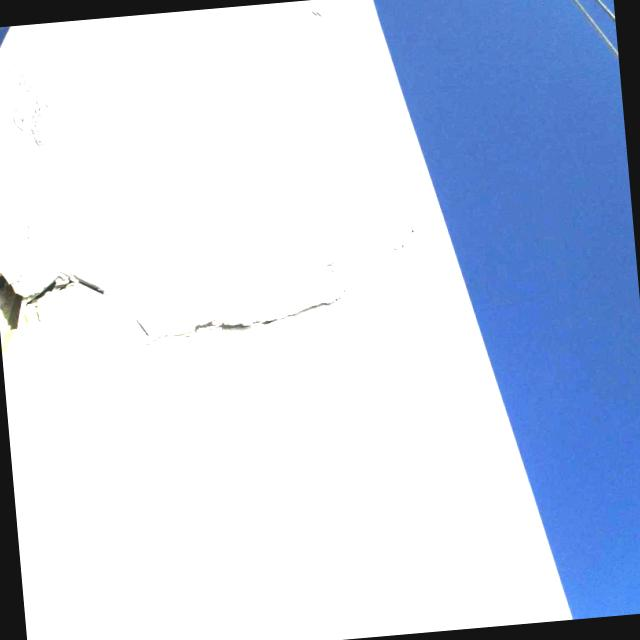crack: (124, 282, 351, 348), (0, 254, 101, 351)
